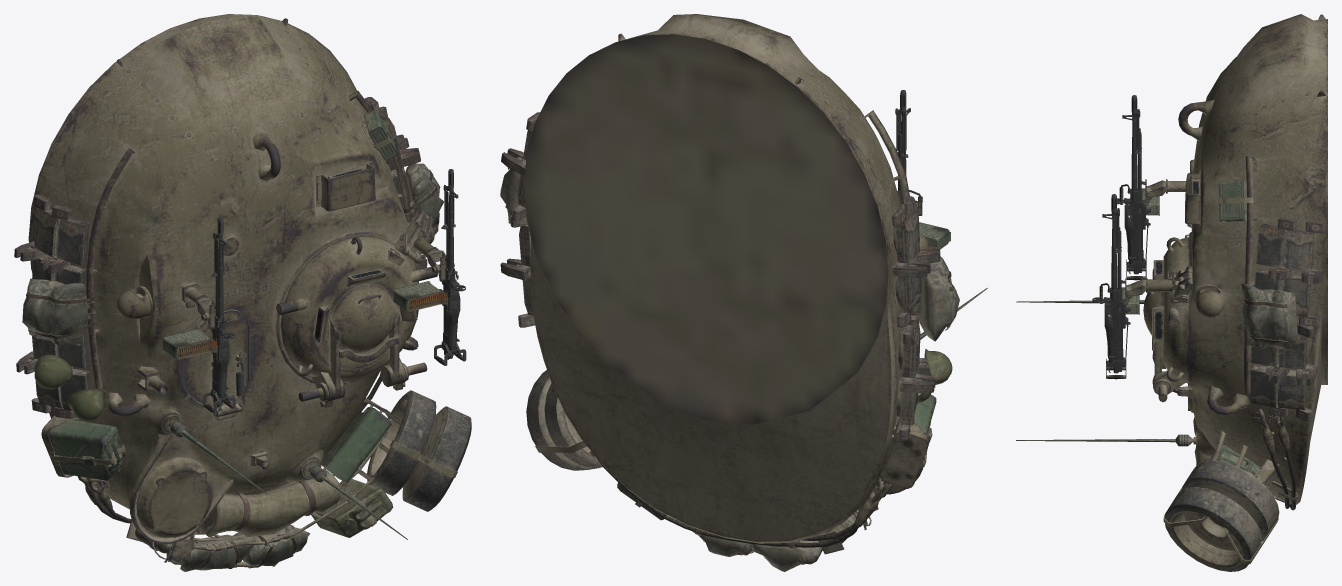
The model's file is Turret_01.glb.
The picture shows the model from 3 angles, left to right: view 1: azimuth 30°, elevation 25°; view 2: azimuth 150°, elevation 25°; view 3: azimuth 270°, elevation 25°; orthographic projection. The views are drawn at different scales.
Parts seen in each view (by area): view 1: set_0_group_0; view 2: set_0_group_0; view 3: set_0_group_0.
Boxes of the visible parts, <box> form: set_0_group_0: <box>14,14,471,571</box>; set_0_group_0: <box>500,14,987,571</box>; set_0_group_0: <box>1016,14,1327,571</box>.
Size of the model in its own units: 3.06 by 3.67 by 2.09.
Materials: 1 (1 with a texture image).
